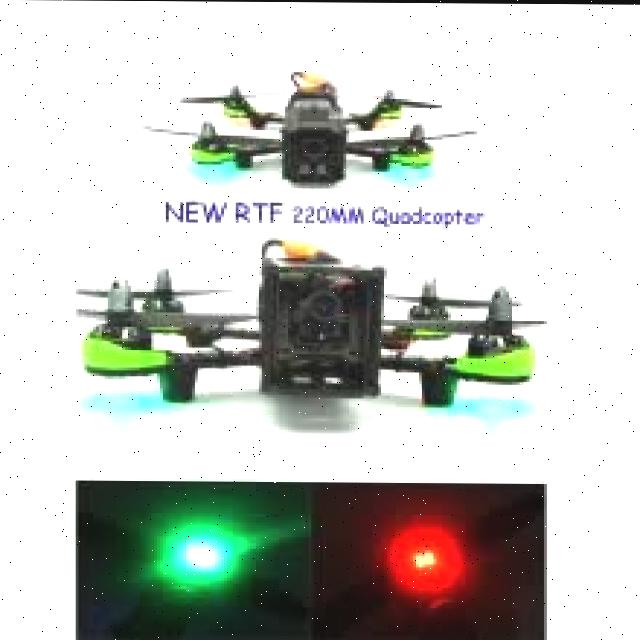drone: (64, 241, 583, 438), (141, 59, 495, 207)
